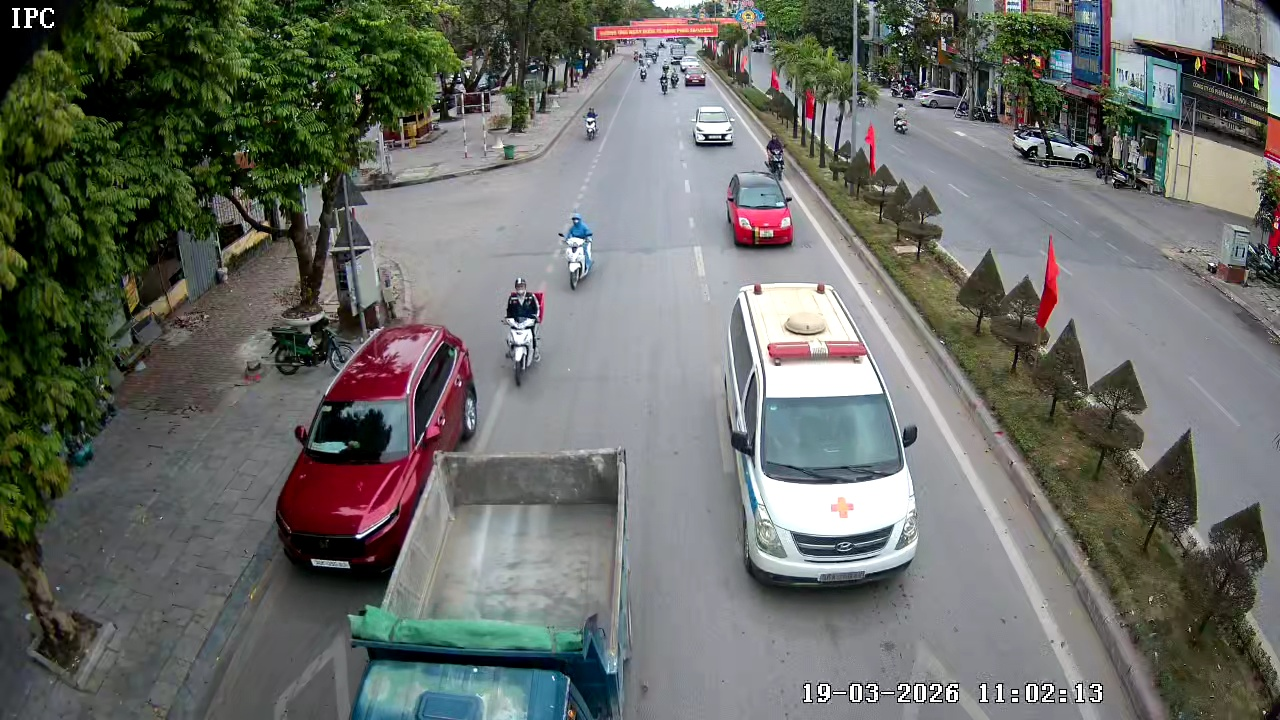car: (723, 282, 920, 588), (276, 324, 482, 577), (724, 172, 795, 249), (690, 101, 735, 148), (679, 65, 708, 89)
motorbike: (500, 276, 545, 387), (557, 212, 596, 291), (761, 127, 793, 183), (582, 104, 602, 142), (658, 71, 672, 96), (637, 62, 651, 83), (671, 67, 681, 89)
truck: (342, 442, 649, 662)
